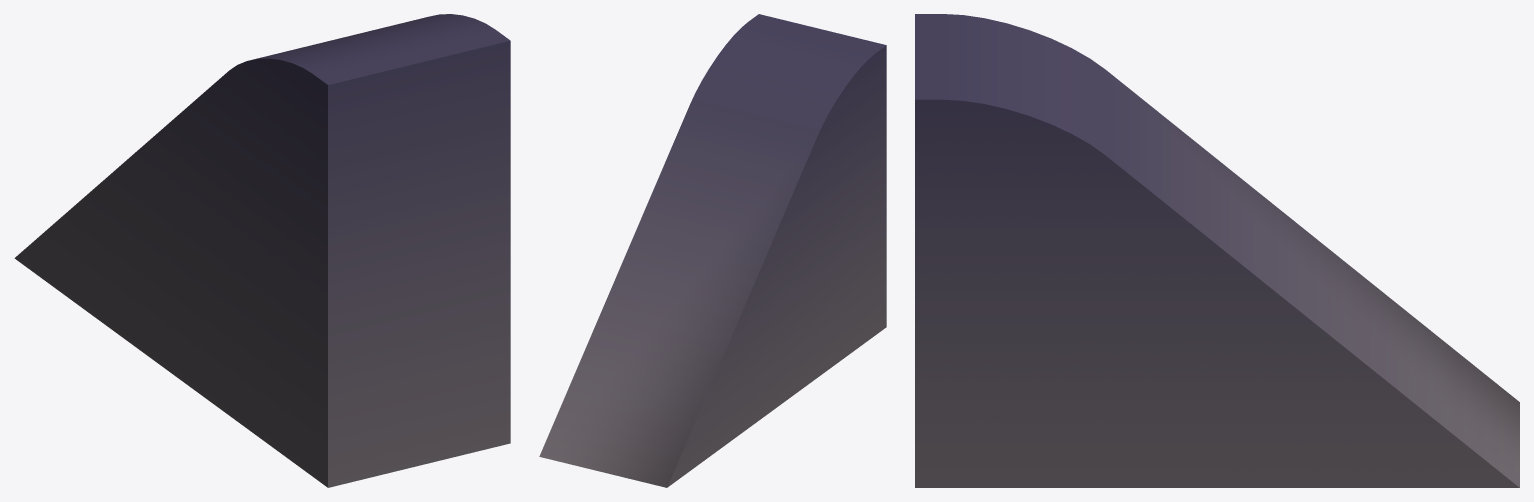
Rendered from PR_RampRounded.fbx.
3 renders of one model, left to right at view 1: azimuth 30°, elevation 25°; view 2: azimuth 150°, elevation 25°; view 3: azimuth 270°, elevation 25°, orthographic. The views are drawn at different scales.
Parts seen in each view (by area): view 1: PR_RampRounded; view 2: PR_RampRounded; view 3: PR_RampRounded.
Boxes of the visible parts, bbox=[...] form: PR_RampRounded: bbox=[14, 14, 510, 487]; PR_RampRounded: bbox=[539, 14, 886, 487]; PR_RampRounded: bbox=[915, 14, 1519, 487].
Size of the model in its own units: 154 by 324 by 458.
Materials: 1 (1 with a texture image).
